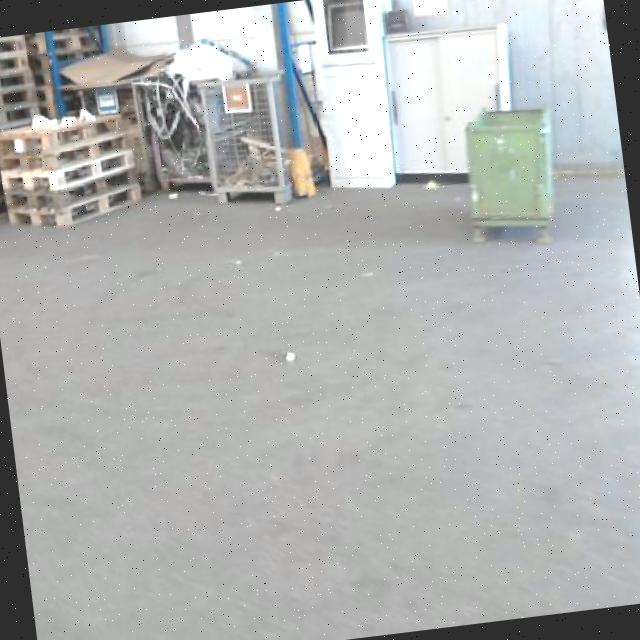pallet: (0, 158, 146, 220), (0, 139, 144, 199), (0, 173, 145, 231), (0, 126, 138, 178), (0, 103, 137, 148), (38, 28, 106, 58), (0, 77, 44, 108), (0, 98, 42, 128), (0, 59, 35, 93), (0, 48, 37, 77), (0, 34, 28, 63)
